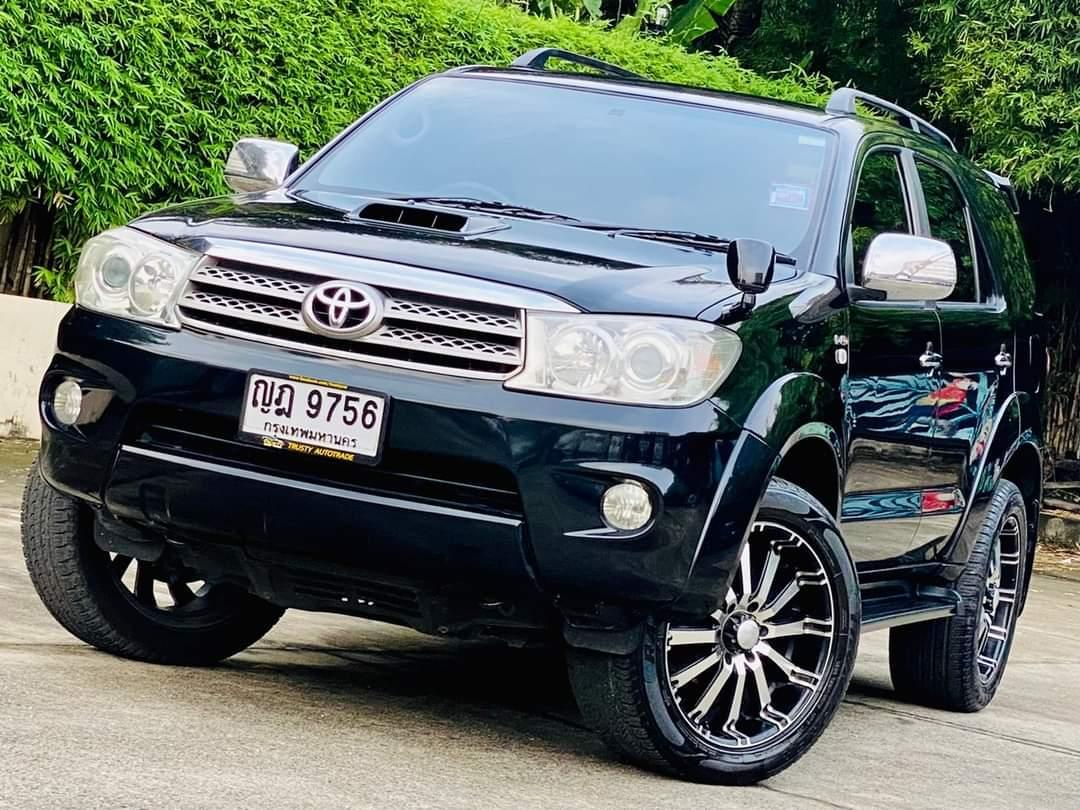license-plate: (235, 364, 390, 463)
